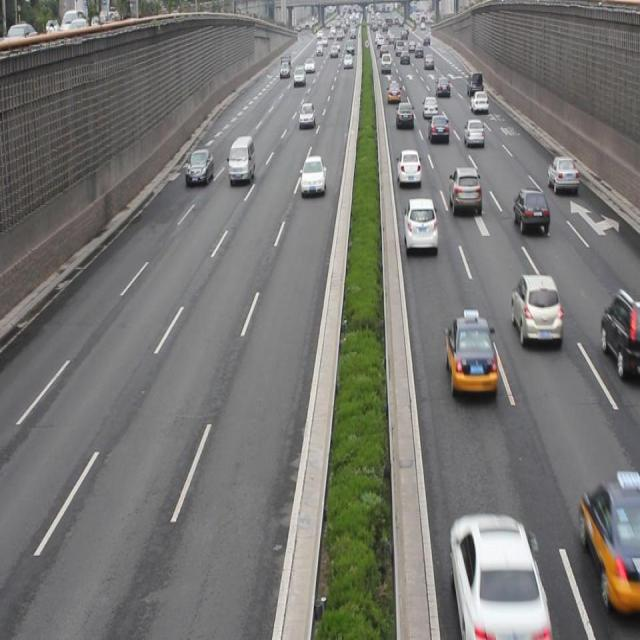car: (449, 513, 546, 640), (578, 483, 640, 603), (444, 314, 496, 396), (510, 273, 561, 344), (599, 290, 640, 378), (402, 197, 437, 252), (513, 186, 548, 236), (448, 164, 481, 216), (547, 154, 578, 196), (299, 155, 326, 197), (185, 147, 213, 186), (395, 147, 421, 185), (427, 113, 449, 144), (394, 99, 413, 130), (463, 118, 483, 146)
truck: (227, 135, 254, 184)
